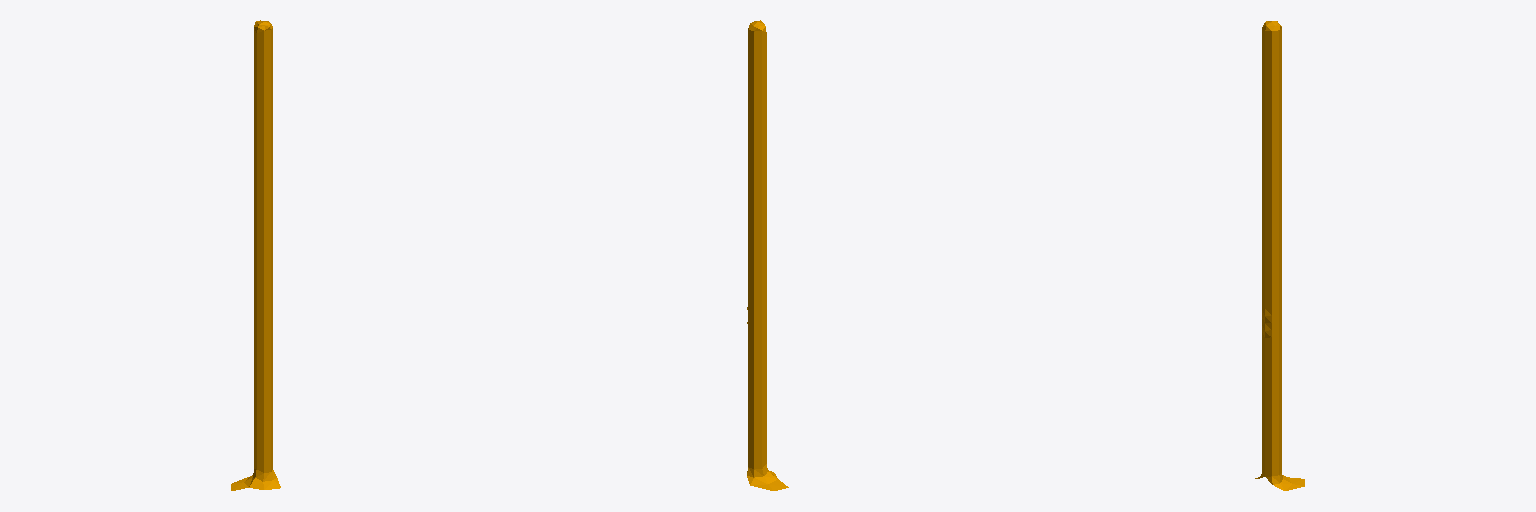
robot.urdf — ceiling_lamp_15650_object:
<robot name="ceiling_lamp_15650_object">
	<link name="_name">
		<visual>
			<origin xyz="-0.03117559570051824 0.06153642535940476 -1.4839126008308285" rpy="0.0 0.0 0.0" />
			<geometry>
				<mesh filename="ceiling_lamp_15650_object.obj" />
			</geometry>
		</visual>
		<collision>
			<origin rpy="0.0 0.0 0.0" xyz="-0.03117559570051824 0.06153642535940476 -1.4839126008308285" />
			<geometry>
				<mesh filename="ceiling_lamp_15650_object_vhacd.obj" />
			</geometry>
		</collision>
		<inertial>
			<origin rpy="0 0 0" xyz="0 0 0" />
			<mass value="1.0" />
			<inertia ixx="0.001" ixy="0.0" ixz="0.0" iyy="0.001" iyz="0.0" izz="0.001" />
		</inertial>
	</link>
</robot>

--- Render facts (derived) ---
3 views of the same robot in one strip: view 1: azimuth 90°, elevation 25°; view 2: azimuth 210°, elevation 25°; view 3: azimuth 270°, elevation 25° (orthographic).
Robot: ceiling_lamp_15650_object — 1 links, 0 joints (none); root link _name; default pose: every joint at zero.
Links seen in each view (by area): view 1: _name; view 2: _name; view 3: _name.
Boxes of the visible links, box(x1,y1,x2,y2) form: _name: box(231, 20, 280, 490); _name: box(747, 20, 788, 490); _name: box(1255, 21, 1304, 490).
Bounding box of the posed robot: 0.0307 × 0.0428 × 0.433 m (x, y, z).
Meshes: 1 distinct files referenced, 1 mesh visuals loaded (1 OBJ).
